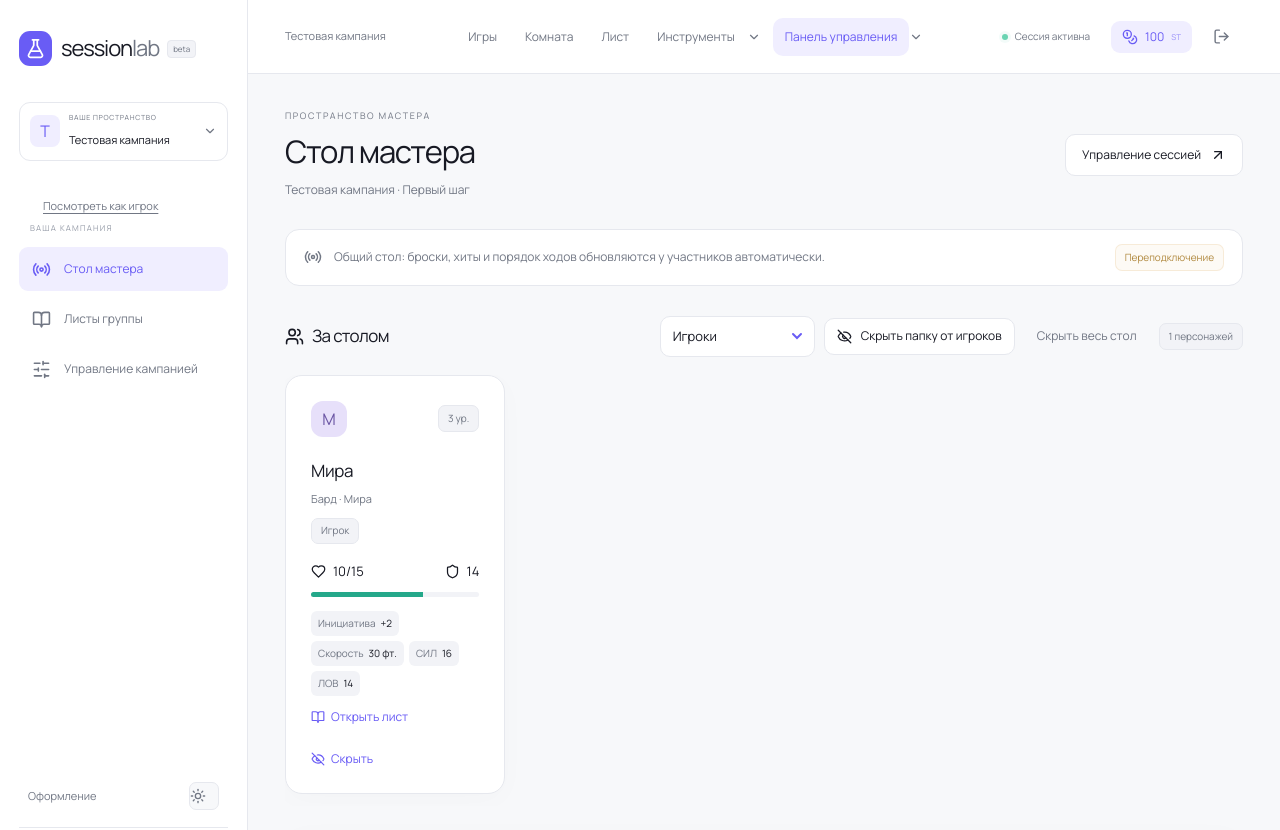
Test: lets a master publish a folder, then players can select it without seeing hidden folders
Select "Противники" in the dropdown named "Папка за столом" at (737, 336), box [660, 316, 815, 357]
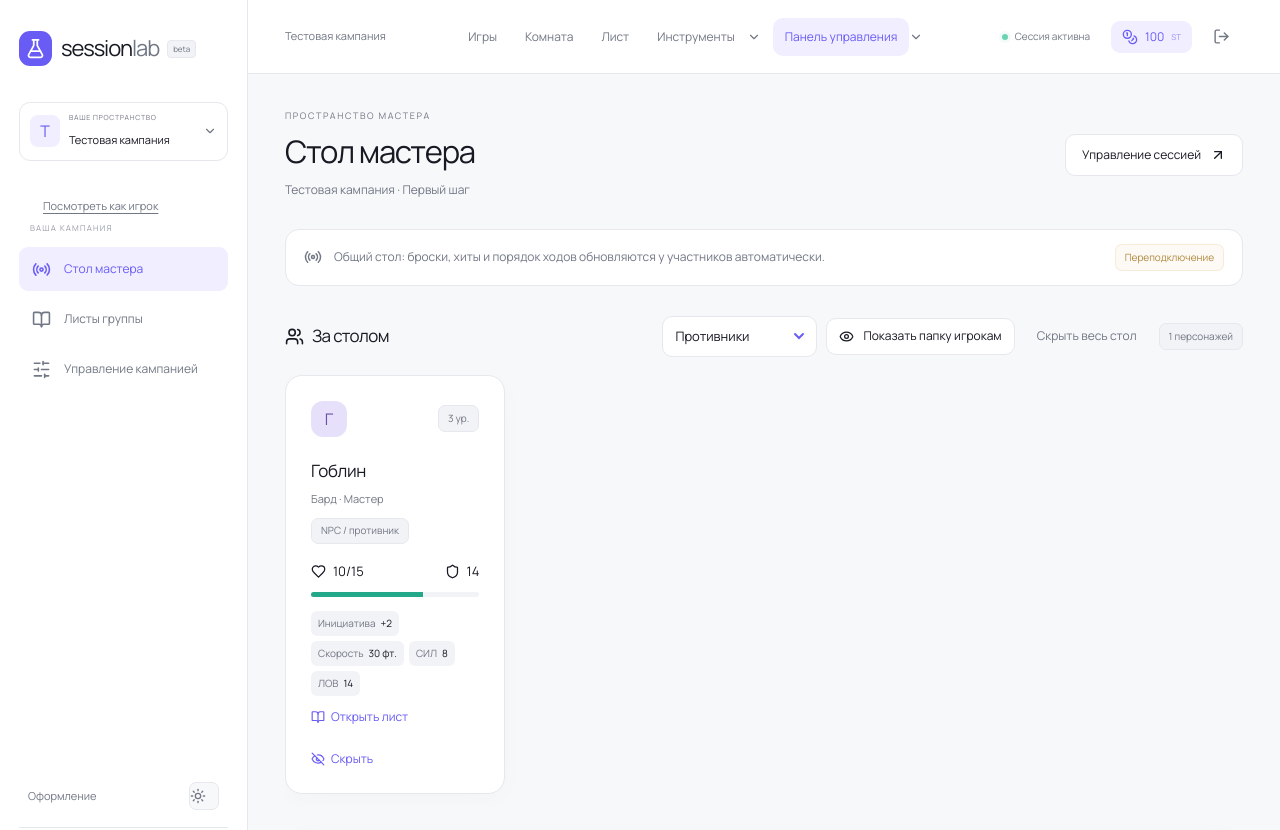
Click the button "Показать папку игрокам".
click(920, 336)  # box [826, 318, 1015, 355]
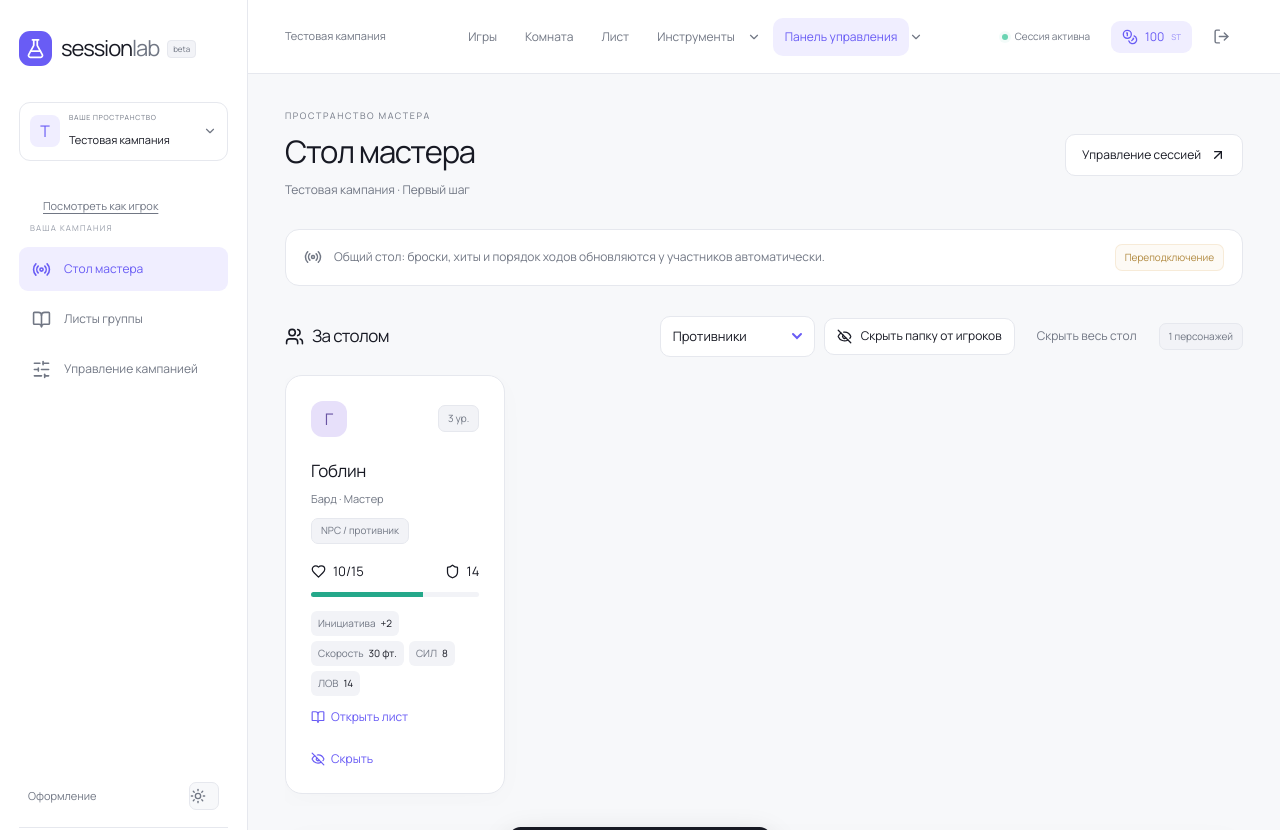
Click the link "Посмотреть как игрок".
click(101, 205)  # box [43, 198, 158, 212]
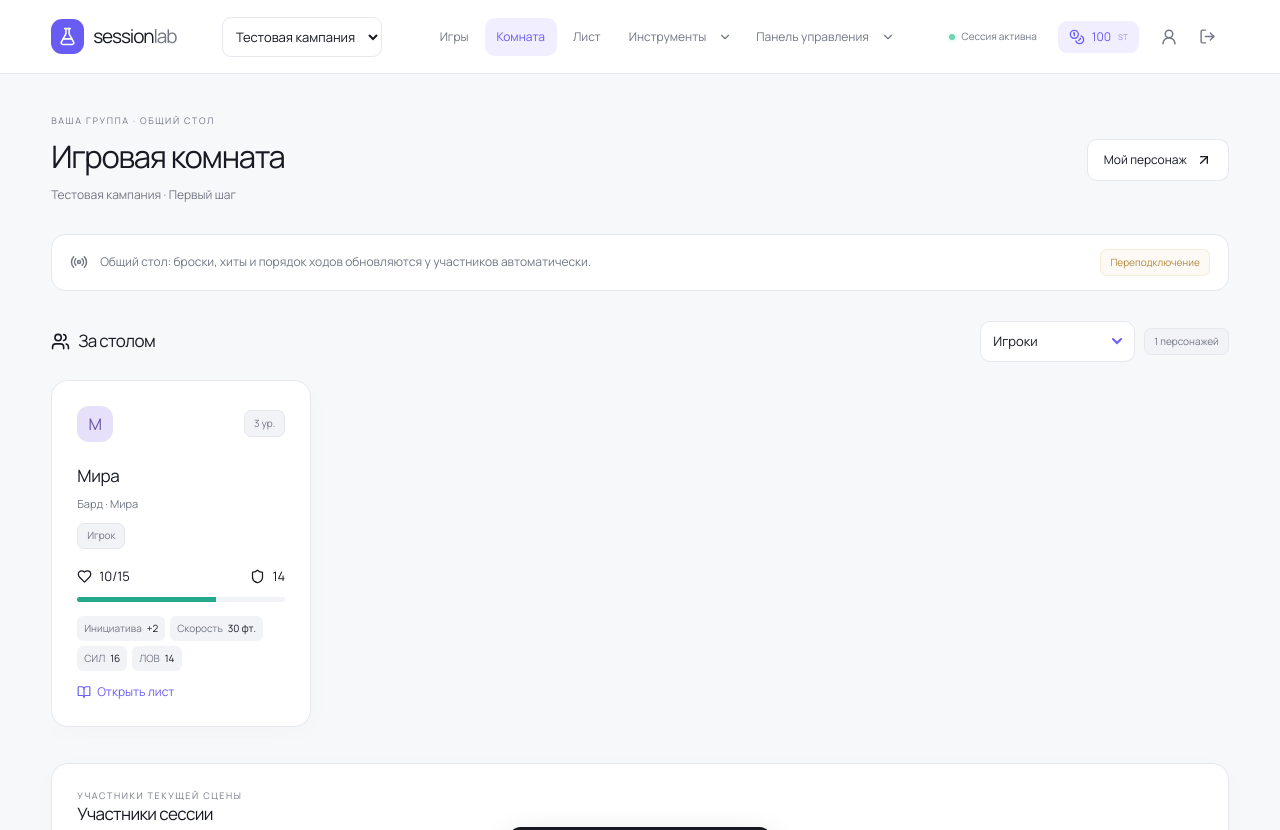
Select "Противники" in the dropdown named "Папка за столом" at (1058, 341), box [980, 321, 1135, 362]
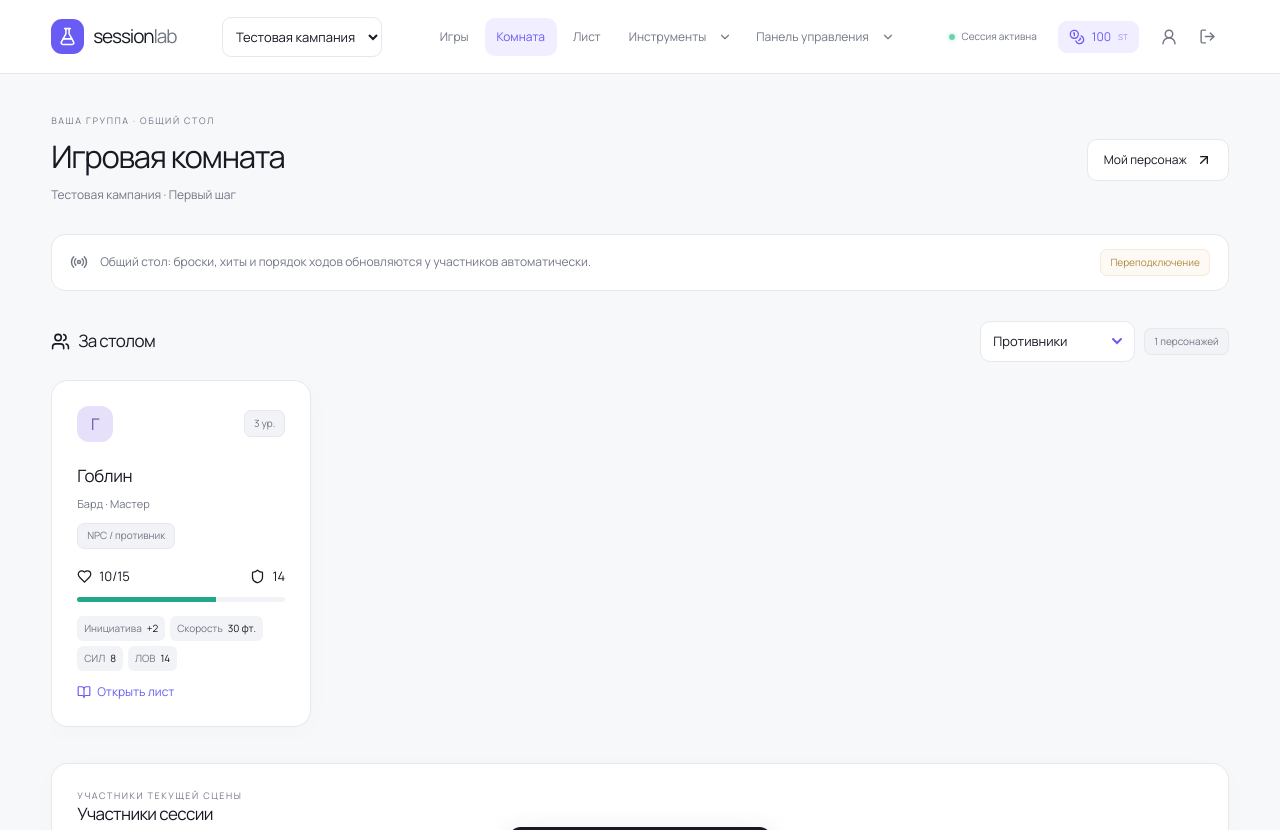
Expected: the heading "Гоблин" is shown, [77, 463, 132, 488]
